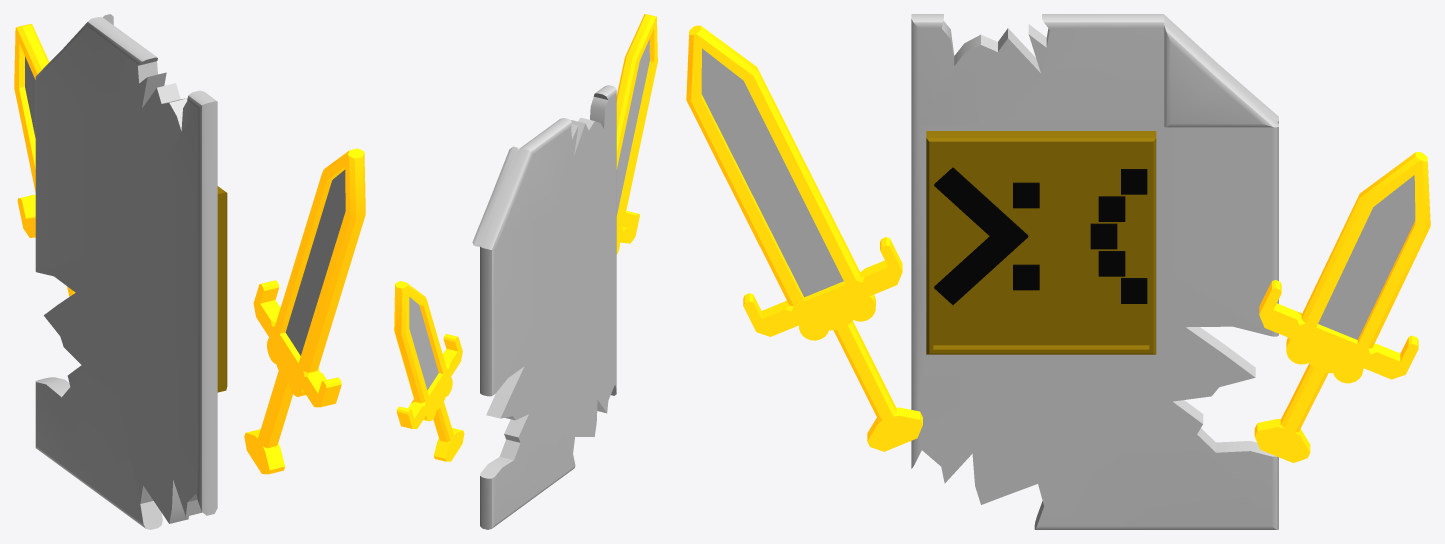
File: Lvl 5 Junk.fbx
3 views of the same model, side by side, from view 1: azimuth 30°, elevation 25°; view 2: azimuth 150°, elevation 25°; view 3: azimuth 270°, elevation 25° (orthographic). The views are drawn at different scales.
Parts seen in each view (by area): view 1: Junk_Troop_; view 2: Junk_Troop_; view 3: Junk_Troop_.
Part boxes in pixels (x1,y1,x2,y2): Junk_Troop_: (14, 14, 365, 529); Junk_Troop_: (394, 14, 657, 529); Junk_Troop_: (686, 14, 1430, 529).
Size of the model in its own units: 0.1901 by 1.36 by 1.75.
